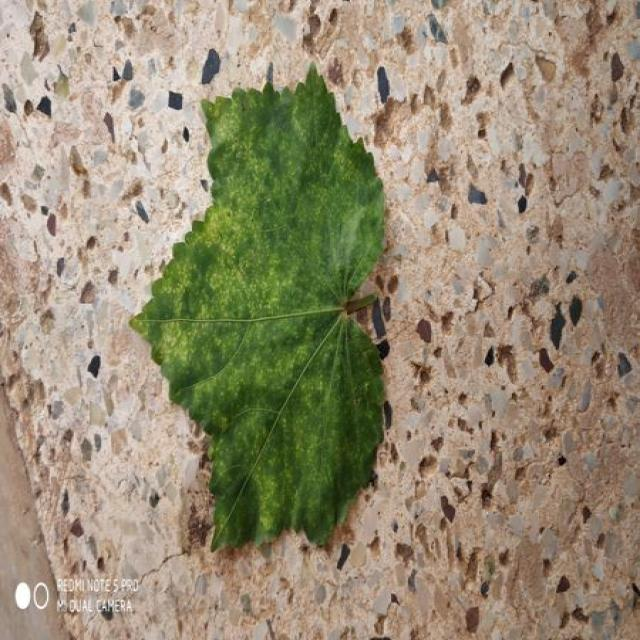Anthracnose: (132, 69, 383, 547)
